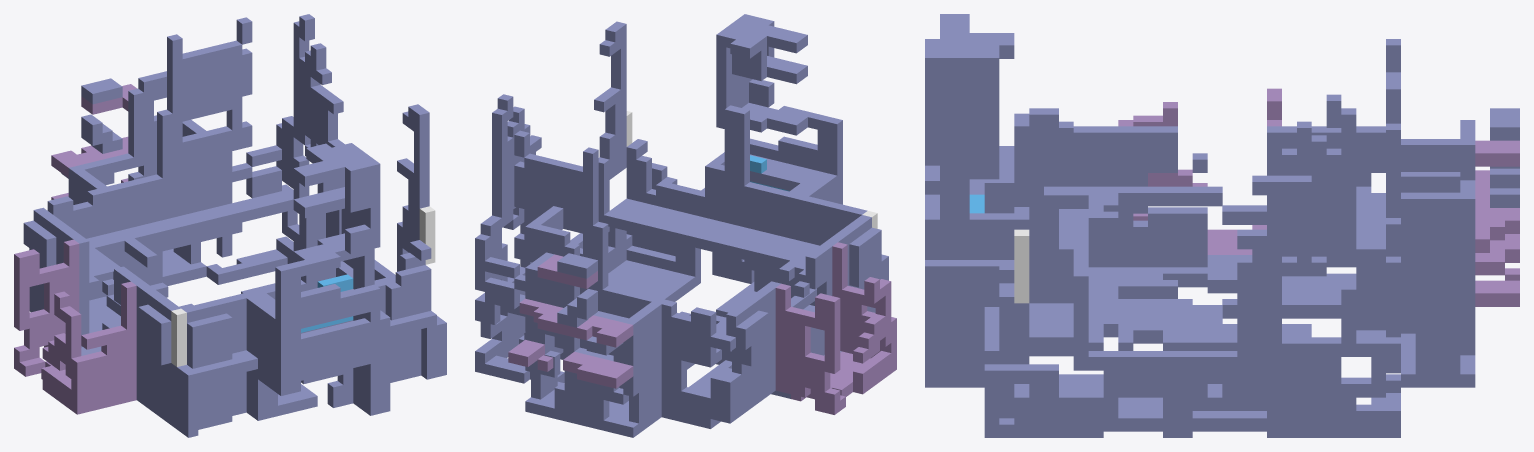
The model's file is building_1_collapsed.gltf.
The picture shows the model from 3 angles, left to right: view 1: azimuth 30°, elevation 25°; view 2: azimuth 150°, elevation 25°; view 3: azimuth 270°, elevation 25°; orthographic projection. The views are drawn at different scales.
Parts seen in each view (by area): view 1: Layer.1; view 2: Layer.1; view 3: Layer.1.
Boxes of the visible parts, left/top/right/bottom form: Layer.1: left=14, top=14, right=446, bottom=437; Layer.1: left=475, top=14, right=896, bottom=437; Layer.1: left=925, top=14, right=1519, bottom=437.
Bounding box in the file's own units: 32 × 25 × 40.
1 material, 1 textured.
